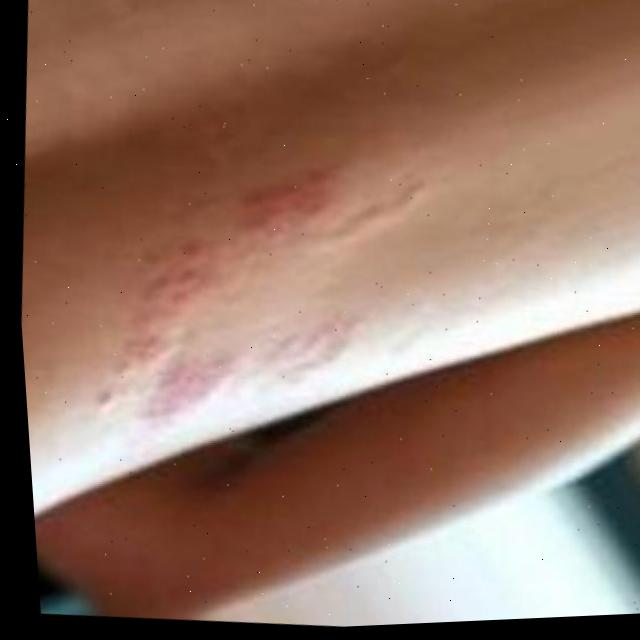Shingles: (105, 173, 386, 425)
